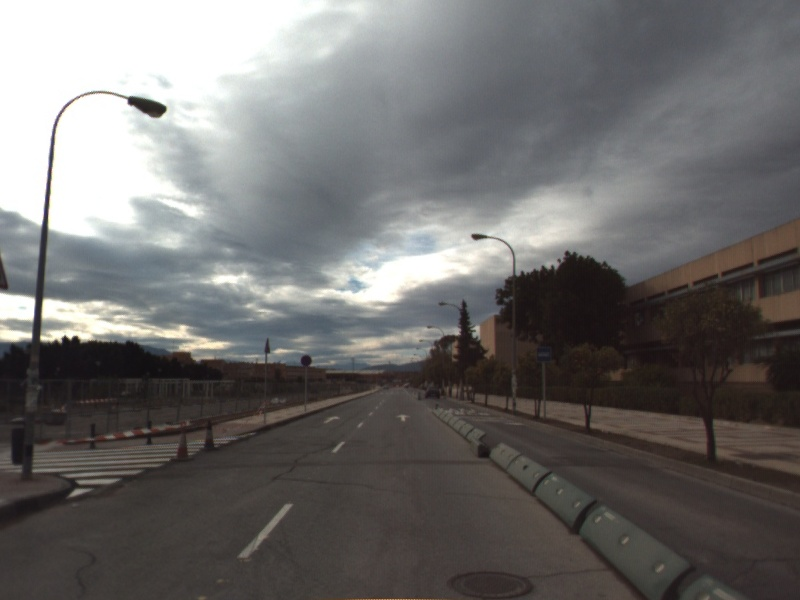STRAIGHT: (321, 414, 342, 425), (394, 412, 413, 423)
